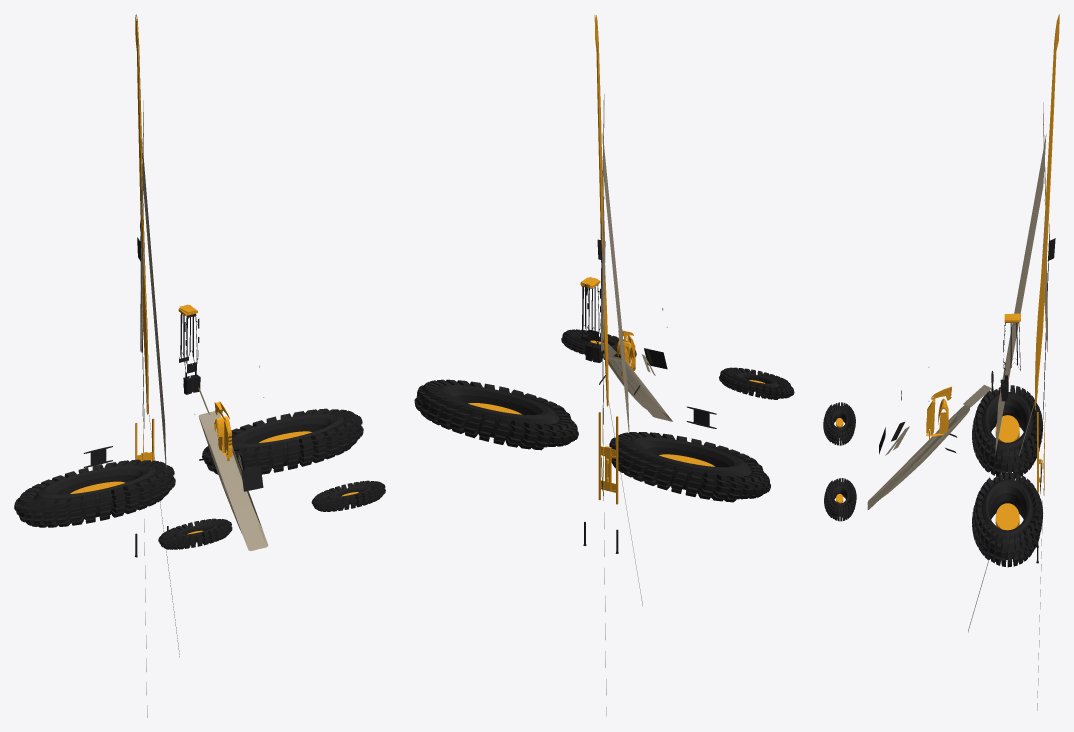
The model's file is JCBMidiCXBackhoeLoader2014.dae.
The picture shows the model from 3 angles, left to right: view 1: azimuth 30°, elevation 25°; view 2: azimuth 150°, elevation 25°; view 3: azimuth 270°, elevation 25°; orthographic projection. The views are drawn at different scales.
Parts seen in each view (by area): view 1: LeftBackTire, RightBackTire, LoaderBucket, LeftFrontTire, rightFrontTire, Arm, bucketSideLinkRod, CabFrame; view 2: RightBackTire, LeftBackTire, LeftFrontTire, Arm, LoaderBucket, bucketSideLinkRod, CabFrame, SwingFrame, rightFrontTire, rockBucket; view 3: RightBackTire, LeftBackTire, Arm, bucketSideLinkRod, LoaderBucket, LeftFrontTire, rightFrontTire, Body, rightBackRim, leftBackRim, CabFrame, rockBucket.
Part boxes in pixels (left/top/right/bottom): LeftBackTire: left=14, top=459, right=175, bottom=527; RightBackTire: left=202, top=408, right=363, bottom=474; LoaderBucket: left=198, top=411, right=268, bottom=550; LeftFrontTire: left=158, top=518, right=232, bottom=549; rightFrontTire: left=311, top=480, right=385, bottom=511; Arm: left=135, top=14, right=148, bottom=414; bucketSideLinkRod: left=142, top=138, right=166, bottom=468; CabFrame: left=179, top=313, right=200, bottom=394; RightBackTire: left=414, top=379, right=578, bottom=450; LeftBackTire: left=609, top=432, right=770, bottom=502; LeftFrontTire: left=719, top=367, right=794, bottom=399; Arm: left=594, top=15, right=608, bottom=406; LoaderBucket: left=603, top=353, right=672, bottom=421; bucketSideLinkRod: left=602, top=132, right=629, bottom=432; CabFrame: left=580, top=283, right=602, bottom=362; SwingFrame: left=598, top=412, right=618, bottom=504; rightFrontTire: left=561, top=329, right=636, bottom=359; rockBucket: left=600, top=94, right=605, bottom=351; RightBackTire: left=972, top=472, right=1043, bottom=567; LeftBackTire: left=972, top=385, right=1043, bottom=479; Arm: left=1035, top=14, right=1059, bottom=409; bucketSideLinkRod: left=995, top=134, right=1046, bottom=454; LoaderBucket: left=867, top=405, right=969, bottom=509; LeftFrontTire: left=823, top=402, right=855, bottom=445; rightFrontTire: left=824, top=478, right=856, bottom=521; Body: left=926, top=398, right=948, bottom=439; rightBackRim: left=995, top=503, right=1019, bottom=530; leftBackRim: left=995, top=415, right=1019, bottom=442; CabFrame: left=1000, top=322, right=1020, bottom=401; rockBucket: left=1042, top=102, right=1047, bottom=351.
Size of the model in its own units: 35.57 by 20.87 by 68.48.
